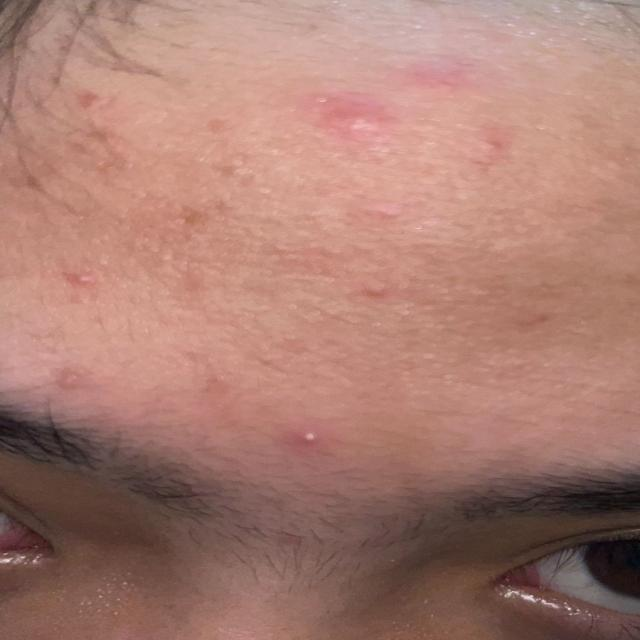papule: (291, 27, 530, 181)
pustule: (274, 428, 327, 461), (53, 261, 102, 293)
